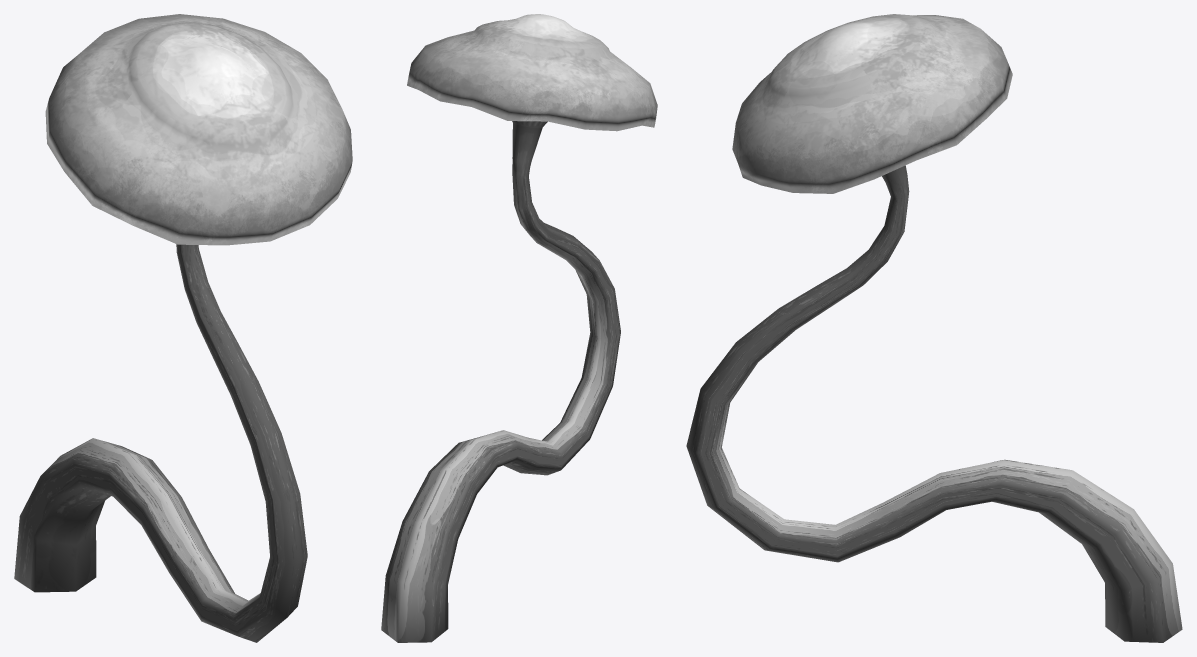
Rendered from Mushroom1A.fbx.
3 views of the same model, side by side, from view 1: azimuth 30°, elevation 25°; view 2: azimuth 150°, elevation 25°; view 3: azimuth 270°, elevation 25° (orthographic). The views are drawn at different scales.
Parts seen in each view (by area): view 1: polySurface2; view 2: polySurface2; view 3: polySurface2.
Part boxes in pixels (<box>): polySurface2: <box>14,14,352,642</box>; polySurface2: <box>381,14,657,642</box>; polySurface2: <box>686,14,1182,642</box>.
Size of the model in its own units: 20.43 by 46.58 by 34.62.
Materials: 1 (1 with a texture image).
